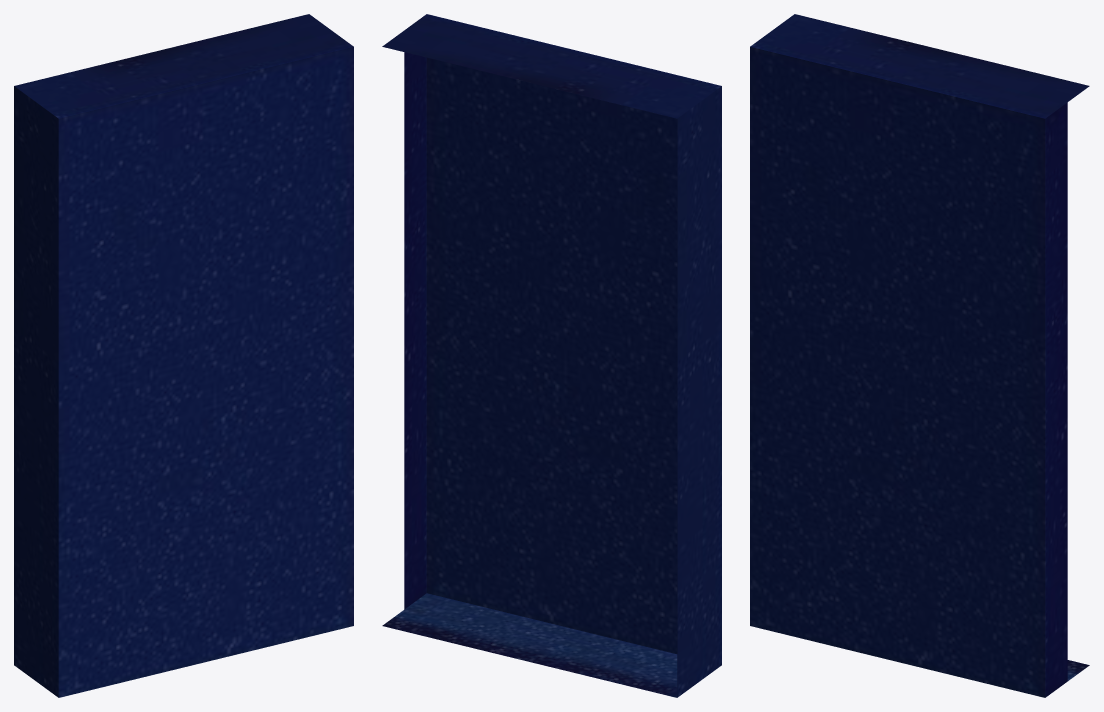
The model's file is france_blue.glb.
3 renders of one model, left to right at view 1: azimuth 30°, elevation 25°; view 2: azimuth 150°, elevation 25°; view 3: azimuth 330°, elevation 25°, orthographic.
Visible parts, largest first — view 1: france_blue; view 2: france_blue; view 3: france_blue.
Part boxes in pixels (box(x1,y1,x2,y2)): france_blue: box(14, 14, 353, 697); france_blue: box(382, 14, 721, 697); france_blue: box(750, 14, 1089, 697).
Bounding box in the file's own units: 0.4267 × 0.8 × 0.112.
Materials: 1 (1 with a texture image).
